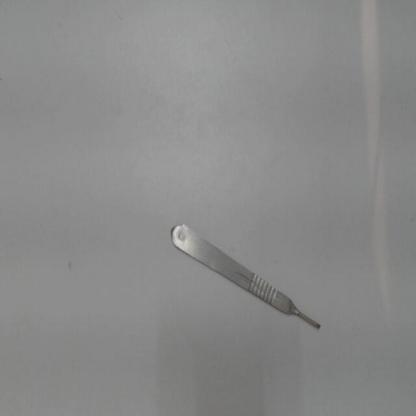No.3 BP Handle: (168, 209, 330, 346)
